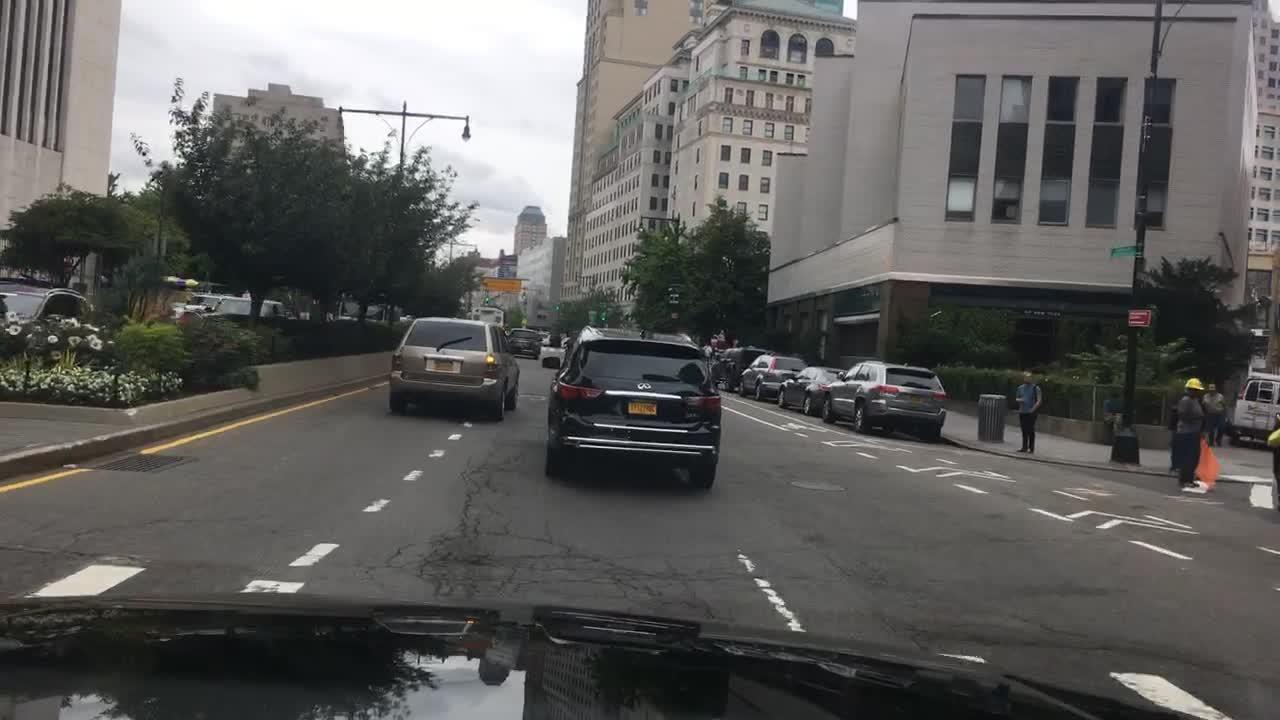Infiniti: (634, 376, 660, 400)
